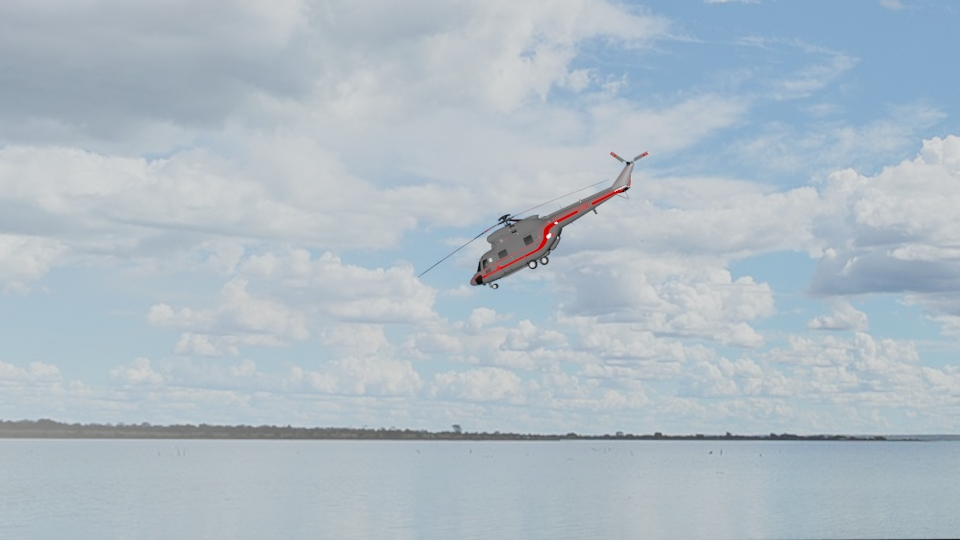heli: (467, 147, 650, 291)
